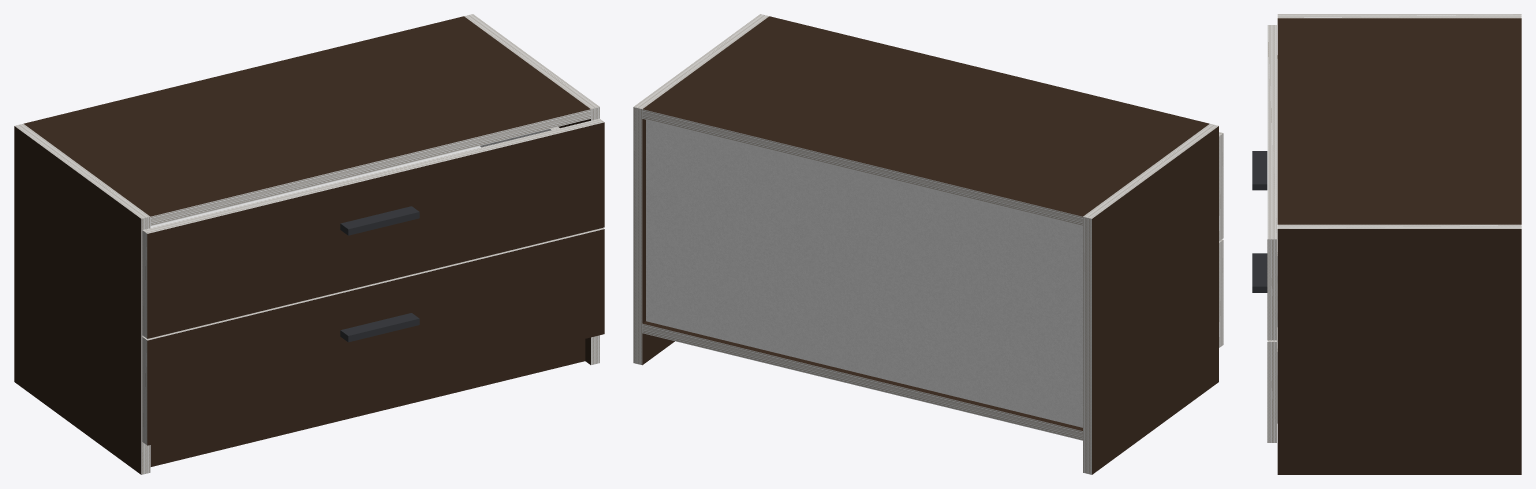
File: BIB-BCH-std.glb
3 renders of one model, left to right at view 1: azimuth 30°, elevation 25°; view 2: azimuth 150°, elevation 25°; view 3: azimuth 270°, elevation 25°, orthographic. The views are drawn at different scales.
Parts seen in each view (by area): view 1: top:pbr, d2-front:pbr, d1-front:pbr, side-l:pbr, plinth:pbr, top:sheet:eyJtIjoicGx5Iiwic2lkZSI6ImVkZ2UtbG9uZyIsInNlZWQiOj, d2-front:sheet:eyJtIjoicGx5Iiwic2lkZSI6ImVkZ2UtbG9uZyIsInNlZ, pull, side-l:sheet:eyJtIjoicGx5Iiwic2lkZSI6ImVkZ2UtZW5kIiwic2VlZCI, side-r:sheet:eyJtIjoicGx5Iiwic2lkZSI6ImVkZ2UtZW5kIiwic2VlZCI, d1-front:sheet:eyJtIjoicGx5Iiwic2lkZSI6ImVkZ2UtbG9uZyIsInNlZ, side-l:sheet:eyJtIjoicGx5Iiwic2lkZSI6ImVkZ2UtbG9uZyIsInNlZWQ (+3 smaller); view 2: back:sheet:eyJtIjoibWRmIiwic2lkZSI6ImZhY2UiLCJzZWVkIjo0LCJ0a, top:pbr, side-l:pbr, bottom:sheet:eyJtIjoicGx5Iiwic2lkZSI6ImVkZ2UtbG9uZyIsInNlZWQ, top:sheet:eyJtIjoicGx5Iiwic2lkZSI6ImVkZ2UtbG9uZyIsInNlZWQiOj, side-r:sheet:eyJtIjoicGx5Iiwic2lkZSI6ImVkZ2UtbG9uZyIsInNlZWQ, side-l:sheet:eyJtIjoicGx5Iiwic2lkZSI6ImVkZ2UtbG9uZyIsInNlZWQ, bottom:pbr, side-r:pbr, side-r:sheet:eyJtIjoicGx5Iiwic2lkZSI6ImVkZ2UtZW5kIiwic2VlZCI, side-l:sheet:eyJtIjoicGx5Iiwic2lkZSI6ImVkZ2UtZW5kIiwic2VlZCI; view 3: side-r:pbr, top:pbr, d2-front:sheet:eyJtIjoicGx5Iiwic2lkZSI6ImVkZ2UtbG9uZyIsInNlZ, pull, side-l:sheet:eyJtIjoicGx5Iiwic2lkZSI6ImVkZ2UtZW5kIiwic2VlZCI, side-r:sheet:eyJtIjoicGx5Iiwic2lkZSI6ImVkZ2UtZW5kIiwic2VlZCI, d2-front:sheet:eyJtIjoicGx5Iiwic2lkZSI6ImVkZ2UtZW5kIiwic2VlZ, d1-front:sheet:eyJtIjoicGx5Iiwic2lkZSI6ImVkZ2UtZW5kIiwic2VlZ.
Boxes of the visible parts, x1,y1,x2,y2 form: top:pbr: (24,16,590,216); d2-front:pbr: (147,122,604,338); d1-front:pbr: (147,229,604,445); side-l:pbr: (14,126,141,474); plinth:pbr: (150,339,585,466); top:sheet:eyJtIjoicGx5Iiwic2lkZSI6ImVkZ2UtbG9uZyIsInNlZWQiOj: (150,109,590,225); d2-front:sheet:eyJtIjoicGx5Iiwic2lkZSI6ImVkZ2UtbG9uZyIsInNlZ: (142,118,603,233); pull: (340,206,419,342); side-l:sheet:eyJtIjoicGx5Iiwic2lkZSI6ImVkZ2UtZW5kIiwic2VlZCI: (15,123,149,218); side-r:sheet:eyJtIjoicGx5Iiwic2lkZSI6ImVkZ2UtZW5kIiwic2VlZCI: (464,14,599,108); d1-front:sheet:eyJtIjoicGx5Iiwic2lkZSI6ImVkZ2UtbG9uZyIsInNlZ: (143,228,603,340); side-l:sheet:eyJtIjoicGx5Iiwic2lkZSI6ImVkZ2UtbG9uZyIsInNlZWQ: (141,216,150,474); back:sheet:eyJtIjoibWRmIiwic2lkZSI6ImZhY2UiLCJzZWVkIjo0LCJ0a: (646,120,1082,427); top:pbr: (643,16,1209,216); side-l:pbr: (1092,126,1218,474); bottom:sheet:eyJtIjoicGx5Iiwic2lkZSI6ImVkZ2UtbG9uZyIsInNlZWQ: (642,323,1082,440); top:sheet:eyJtIjoicGx5Iiwic2lkZSI6ImVkZ2UtbG9uZyIsInNlZWQiOj: (642,109,1082,226); side-r:sheet:eyJtIjoicGx5Iiwic2lkZSI6ImVkZ2UtbG9uZyIsInNlZWQ: (633,107,642,364); side-l:sheet:eyJtIjoicGx5Iiwic2lkZSI6ImVkZ2UtbG9uZyIsInNlZWQ: (1083,217,1091,474); bottom:pbr: (643,321,1082,430); side-r:pbr: (642,119,674,364); side-r:sheet:eyJtIjoicGx5Iiwic2lkZSI6ImVkZ2UtZW5kIiwic2VlZCI: (634,14,769,109); side-l:sheet:eyJtIjoicGx5Iiwic2lkZSI6ImVkZ2UtZW5kIiwic2VlZCI: (1083,124,1218,218); side-r:pbr: (1277,229,1521,474); top:pbr: (1277,18,1521,224); d2-front:sheet:eyJtIjoicGx5Iiwic2lkZSI6ImVkZ2UtbG9uZyIsInNlZ: (1267,25,1276,239); pull: (1252,151,1267,292); side-l:sheet:eyJtIjoicGx5Iiwic2lkZSI6ImVkZ2UtZW5kIiwic2VlZCI: (1277,14,1521,18); side-r:sheet:eyJtIjoicGx5Iiwic2lkZSI6ImVkZ2UtZW5kIiwic2VlZCI: (1277,224,1521,228); d2-front:sheet:eyJtIjoicGx5Iiwic2lkZSI6ImVkZ2UtZW5kIiwic2VlZ: (1267,239,1276,340); d1-front:sheet:eyJtIjoicGx5Iiwic2lkZSI6ImVkZ2UtZW5kIiwic2VlZ: (1267,342,1276,442).
Size of the model in its own units: 0.9 by 0.48 by 0.4769.
Materials: 55 (47 with a texture image).
